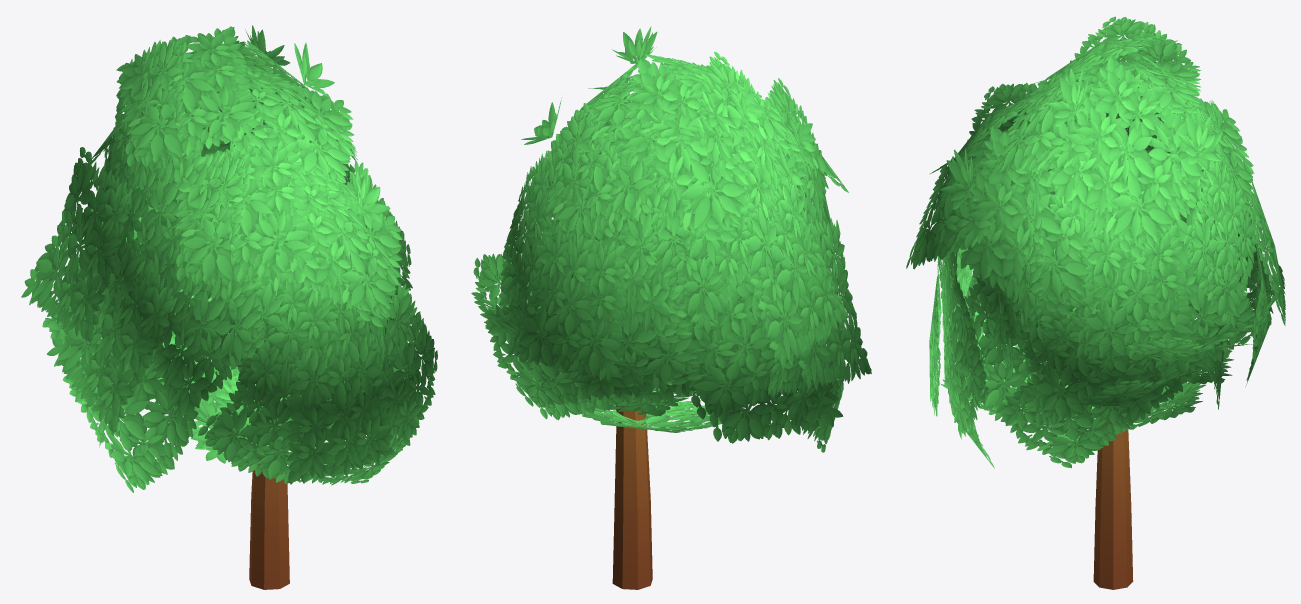
File: Tree_C.fbx
3 renders of one model, left to right at view 1: azimuth 30°, elevation 25°; view 2: azimuth 150°, elevation 25°; view 3: azimuth 270°, elevation 25°, orthographic. The views are drawn at different scales.
Parts seen in each view (by area): view 1: Tree_C; view 2: Tree_C; view 3: Tree_C.
Part boxes in pixels (left/top/right/bottom): Tree_C: left=21, top=25, right=437, bottom=589; Tree_C: left=471, top=26, right=871, bottom=589; Tree_C: left=906, top=16, right=1285, bottom=589.
Size of the model in its own units: 181 by 295 by 193.
2 materials, 2 textured.
